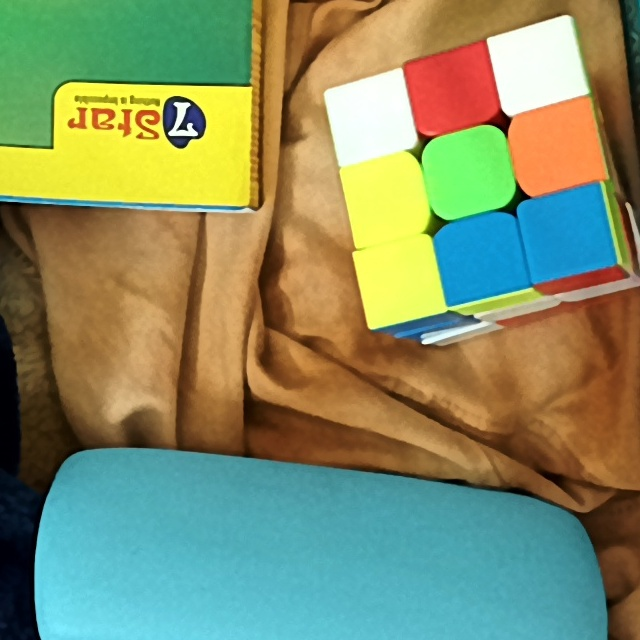tile: (528, 201, 605, 265), (433, 143, 504, 207), (338, 83, 402, 153), (504, 33, 571, 99), (522, 115, 592, 178), (420, 60, 488, 122), (447, 227, 516, 286), (354, 171, 420, 230), (370, 248, 430, 308)
